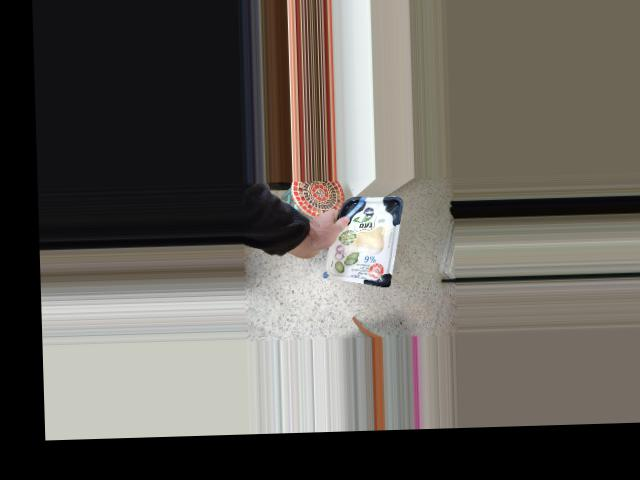cheese: (309, 211, 381, 280)
